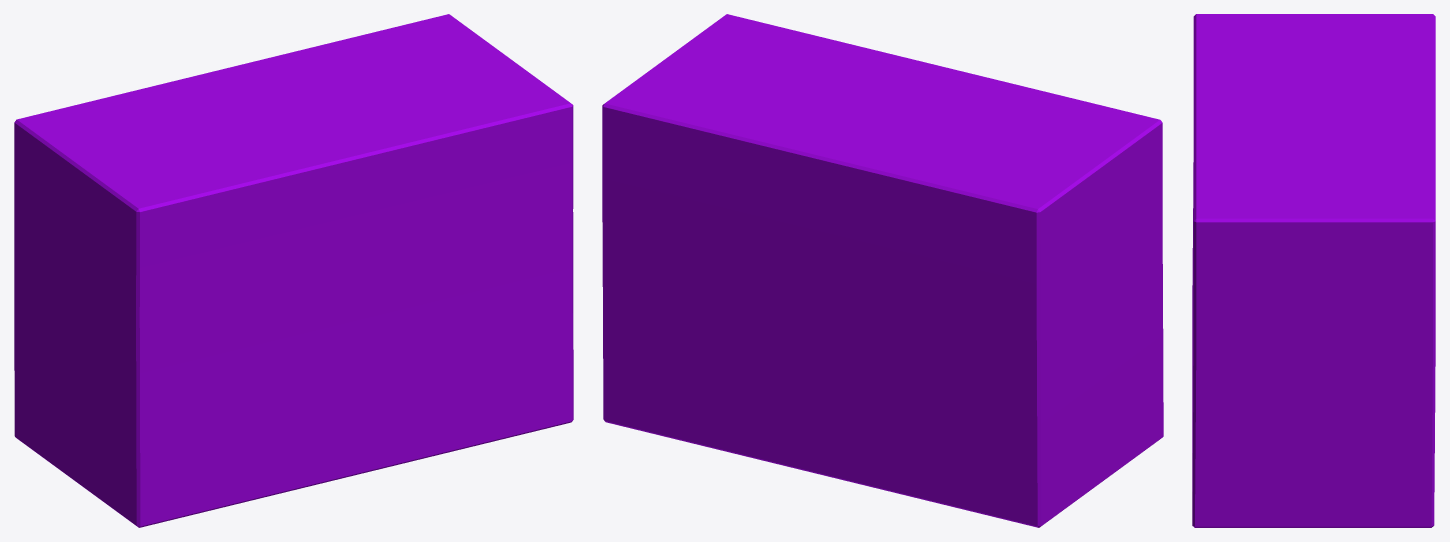
File: Modular_Multi_04.fbx
The picture shows the model from 3 angles, left to right: view 1: azimuth 30°, elevation 25°; view 2: azimuth 150°, elevation 25°; view 3: azimuth 270°, elevation 25°; orthographic projection. The views are drawn at different scales.
Visible parts, largest first — view 1: Modular_Multi_04; view 2: Modular_Multi_04; view 3: Modular_Multi_04.
Boxes of the visible parts, x1,y1,x2,y2 form: Modular_Multi_04: (14, 14, 573, 527); Modular_Multi_04: (602, 14, 1163, 527); Modular_Multi_04: (1192, 14, 1435, 527).
Bounding box in the file's own units: 71.59 × 49.83 × 35.57.
